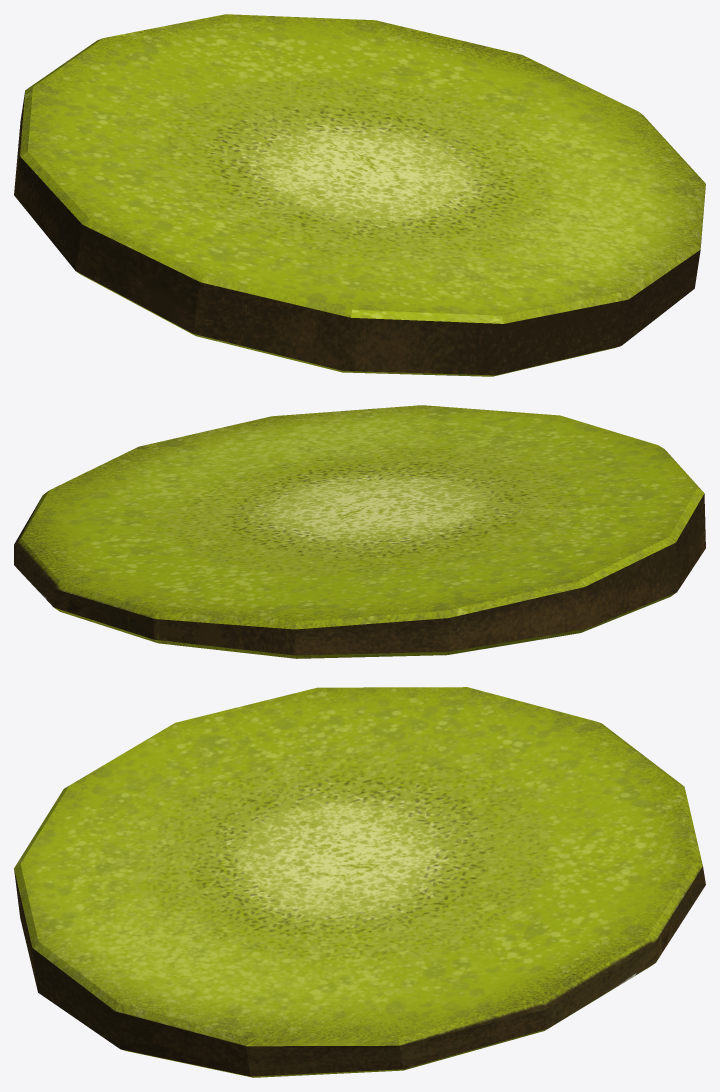
File: kiwi.fbx
3 renders of one model, top to bottom at view 1: azimuth 30°, elevation 25°; view 2: azimuth 150°, elevation 25°; view 3: azimuth 270°, elevation 25°, orthographic.
Visible parts, largest first — view 1: Circle.001; view 2: Circle.001; view 3: Circle.001.
Boxes of the visible parts, x1,y1,x2,y2 form: Circle.001: (14, 14, 705, 376); Circle.001: (14, 405, 705, 658); Circle.001: (14, 687, 705, 1077).
Size of the model in its own units: 45.01 by 9.37 by 45.11.
